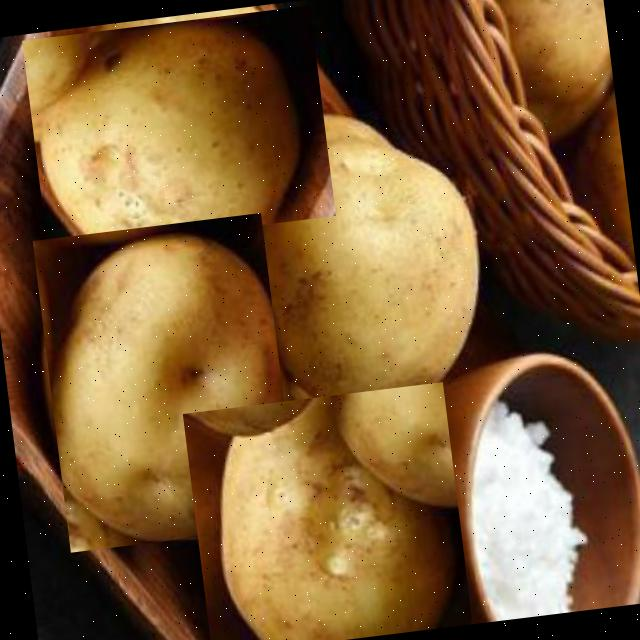Potato: (31, 212, 298, 552), (237, 126, 498, 442), (21, 5, 334, 251), (181, 381, 471, 640)
